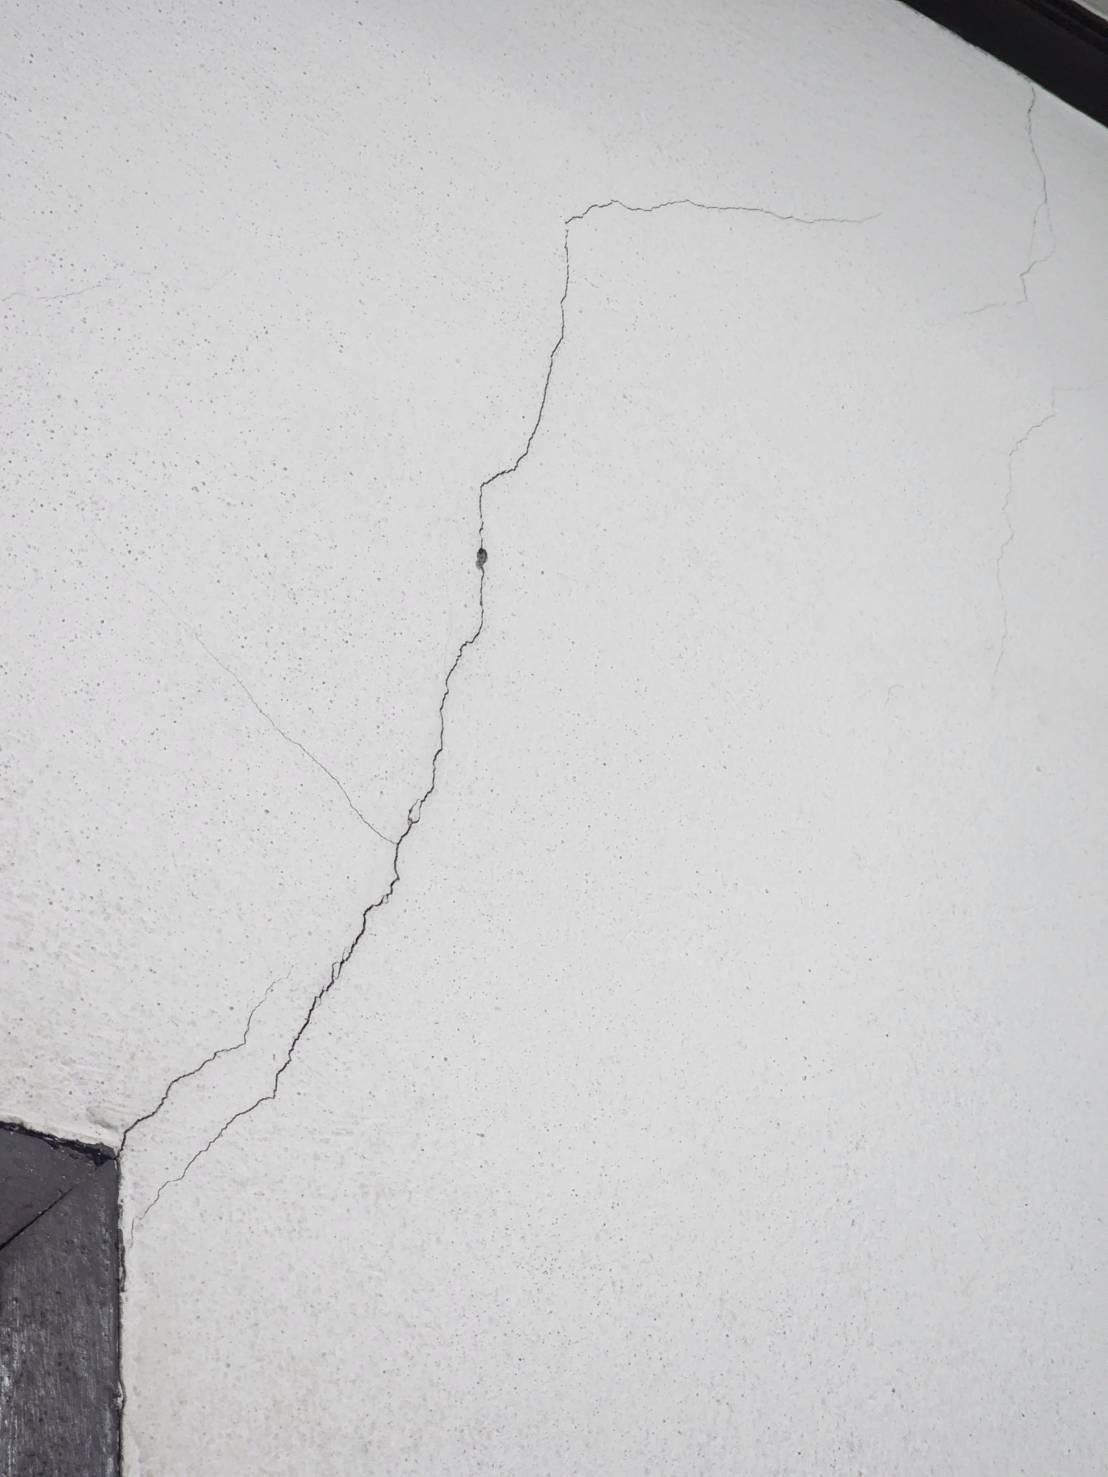Low: (94, 50, 1108, 1231)
